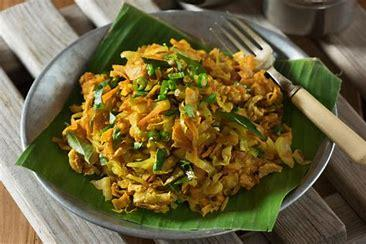Kottu: (46, 37, 310, 217)
